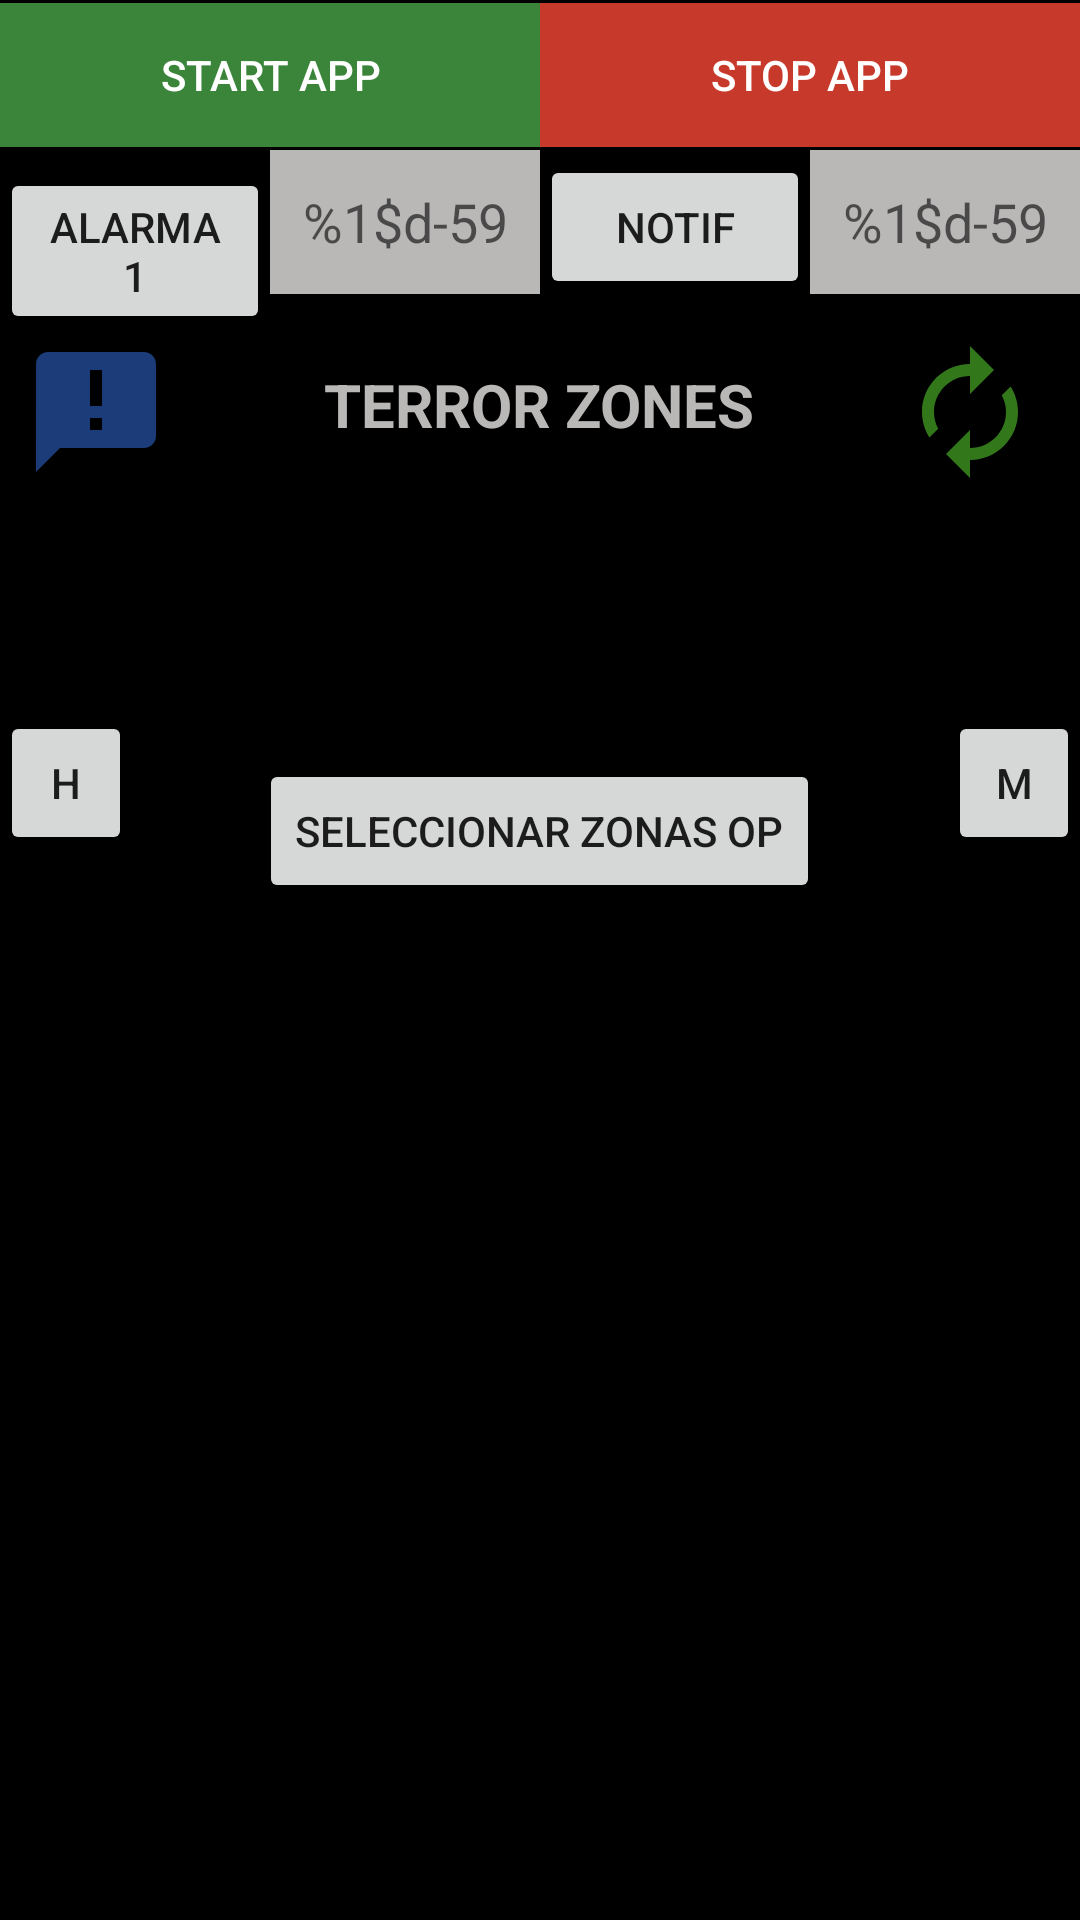

Icon bounding boxes for this 1080 × 1920 phone screenshot, format [x1, y1, x2, y2]:
Actualizar: [922, 346, 1018, 478]
